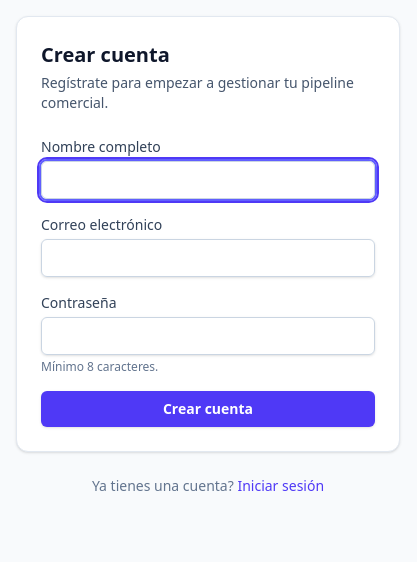
Test: Página /register — wiring real por defecto (F05-T01) › muestra 'Ese correo ya está registrado' en 409 y no navega
The width and height of the screenshot is (417, 562).
Type "Ana García" into the field labelled "Nombre completo" at (208, 180), box [41, 161, 375, 199]
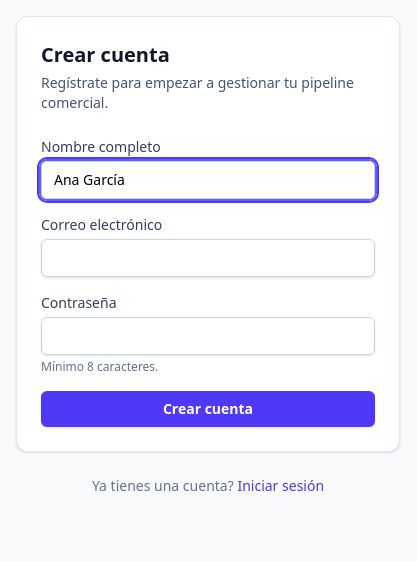
Type "ana@example.com" into the field labelled "Correo electrónico" at (208, 258), box [41, 239, 375, 277]
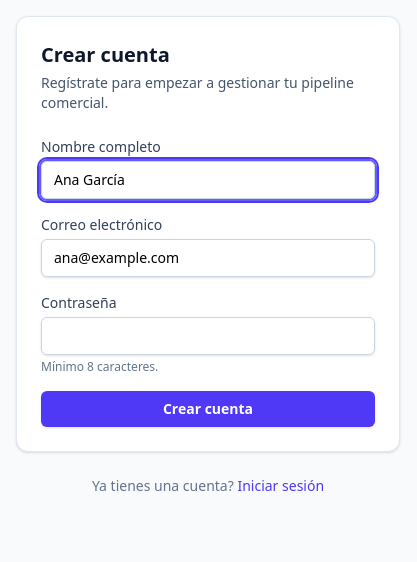
Type "valida1234" into the password field labelled "Contraseña" at (208, 336), box [41, 317, 375, 355]
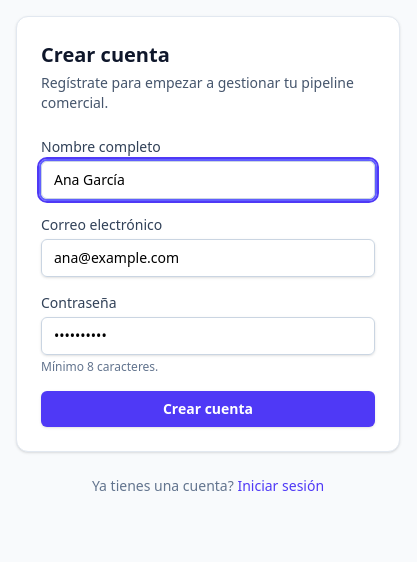
Click the button "Crear cuenta" at (208, 409), box [41, 391, 375, 427]
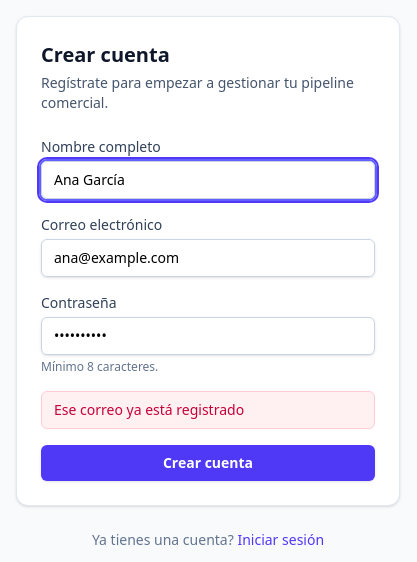
Expected: the text "Ese correo ya está registrado" is shown, [41, 391, 375, 429]
